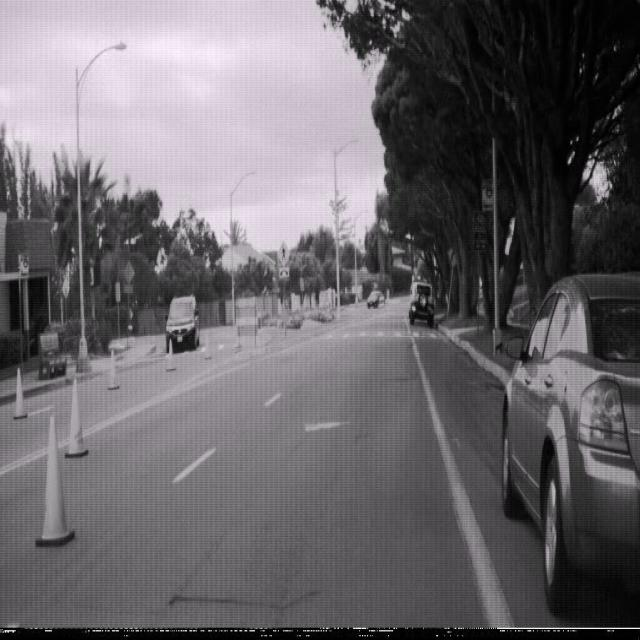pedestrianCrossing: (276, 239, 291, 267)
